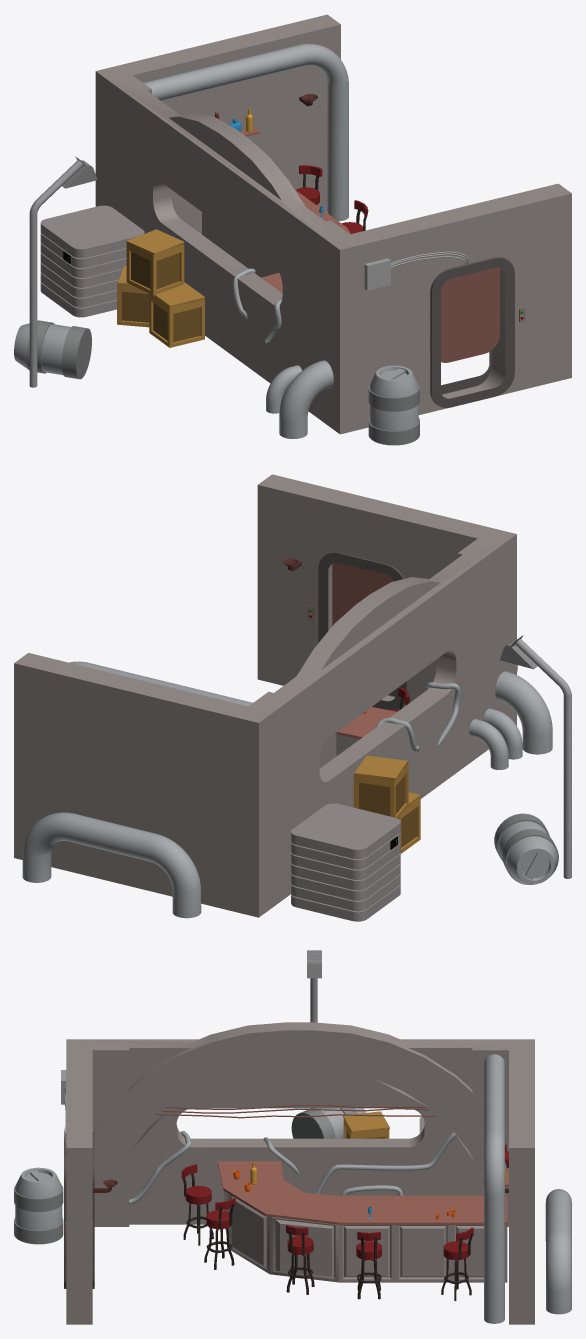
The model's file is HassenCantina.glb.
3 renders of one model, top to bottom at view 1: azimuth 30°, elevation 25°; view 2: azimuth 150°, elevation 25°; view 3: azimuth 270°, elevation 25°, orthographic. The views are drawn at different scales.
Parts seen in each view (by area): view 1: MainWalls, BigCrate, InDoorPipe, MainDoor, DoorOutlines, CylinderCrate, CylinderCrate.002, GenericCrate.002, GenericCrate.001, StreetLamp, BigPipe, NewBar (+4 smaller); view 2: MainWalls, BigCrate, BigUndergroundPipe, CylinderCrate.002, GenericCrate.002, StreetLamp, BigPipe, DoorOutlines, MainDoor, NewBar, SmallPipe.001, GenericCrate.001 (+3 smaller); view 3: MainWalls, NewBar, InDoorPipe, CylinderCrate, BigUndergroundPipe, CylinderCrate.002, GenericCrate.002, SmallPipe1, DoorOutlines, StreetLamp, StoolTop.001, StoolTop.004 (+10 smaller).
Part boxes in pixels (<box>): MainWalls: <box>95,14,571,434</box>; BigCrate: <box>40,205,144,317</box>; InDoorPipe: <box>143,43,348,221</box>; MainDoor: <box>441,267,499,362</box>; DoorOutlines: <box>430,257,514,407</box>; CylinderCrate: <box>368,365,419,445</box>; CylinderCrate.002: <box>14,320,91,379</box>; GenericCrate.002: <box>126,229,184,295</box>; GenericCrate.001: <box>149,282,204,347</box>; StreetLamp: <box>29,156,97,387</box>; BigPipe: <box>279,360,333,438</box>; NewBar: <box>202,189,350,293</box>; MainWalls: <box>14,474,516,917</box>; BigCrate: <box>291,803,400,921</box>; BigUndergroundPipe: <box>22,812,201,918</box>; CylinderCrate.002: <box>494,813,558,884</box>; GenericCrate.002: <box>353,755,408,818</box>; StreetLamp: <box>500,635,571,878</box>; BigPipe: <box>495,671,552,754</box>; DoorOutlines: <box>318,552,407,709</box>; MainDoor: <box>332,563,393,625</box>; NewBar: <box>319,707,396,768</box>; SmallPipe.001: <box>469,719,508,769</box>; GenericCrate.001: <box>398,792,420,853</box>; MainWalls: <box>66,1022,534,1324</box>; NewBar: <box>217,1161,507,1282</box>; InDoorPipe: <box>484,1054,504,1323</box>; CylinderCrate: <box>14,1167,63,1244</box>; BigUndergroundPipe: <box>545,1189,571,1314</box>; CylinderCrate.002: <box>291,1108,365,1138</box>; GenericCrate.002: <box>343,1111,389,1138</box>; SmallPipe1: <box>315,1132,456,1194</box>; DoorOutlines: <box>64,1132,94,1288</box>; StreetLamp: <box>307,950,321,1108</box>; StoolTop.001: <box>181,1164,211,1204</box>; StoolTop.004: <box>286,1225,313,1254</box>.
Size of the model in its own units: 35.06 by 17.57 by 42.85.
